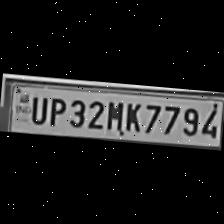2: (84, 96, 106, 130)
3: (65, 95, 87, 129)
4: (199, 103, 220, 139)
7: (158, 102, 180, 136), (140, 100, 161, 134)
9: (177, 104, 200, 138)
K: (121, 99, 142, 134)
M: (103, 97, 124, 132)
P: (45, 94, 67, 128)
U: (26, 92, 48, 126)
